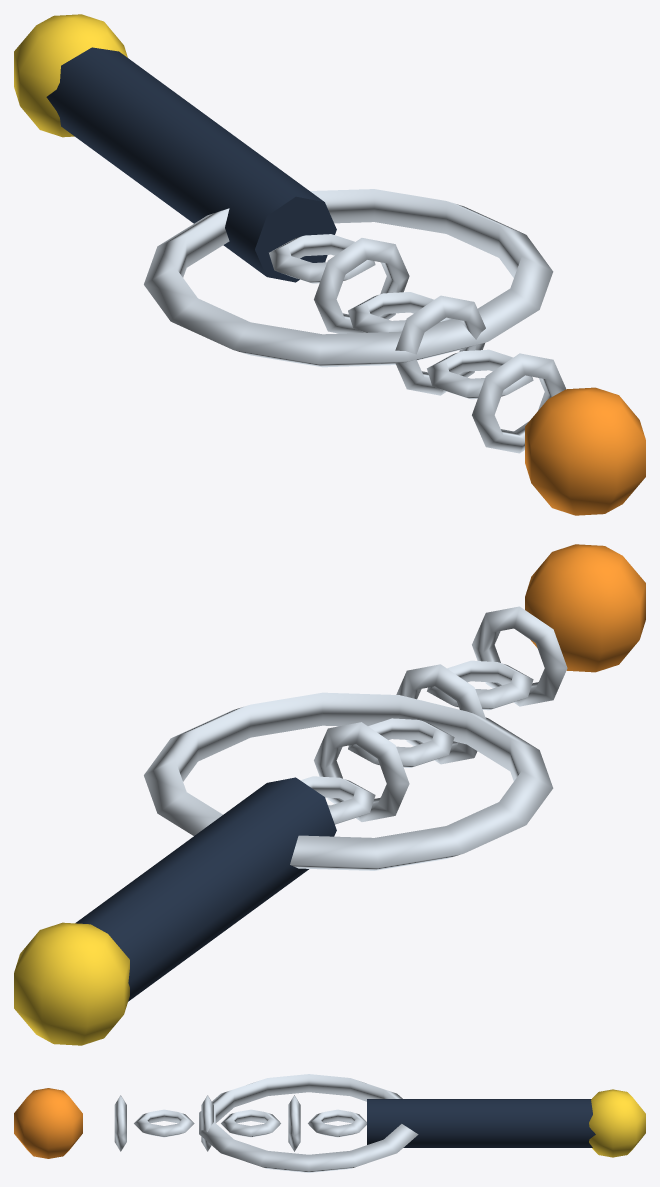
Rendered from ChainWhip.fbx.
3 views of the same model, one above another, from view 1: azimuth 30°, elevation 25°; view 2: azimuth 150°, elevation 25°; view 3: azimuth 270°, elevation 25° (orthographic). The views are drawn at different scales.
Visible parts, largest first — view 1: ChainWhip; view 2: ChainWhip; view 3: ChainWhip.
Boxes of the visible parts, x1,y1,x2,y2 form: ChainWhip: (14, 14, 645, 515); ChainWhip: (14, 544, 645, 1045); ChainWhip: (14, 1074, 645, 1172).
Bounding box in the file's own units: 0.156 × 0.05 × 0.4366.
